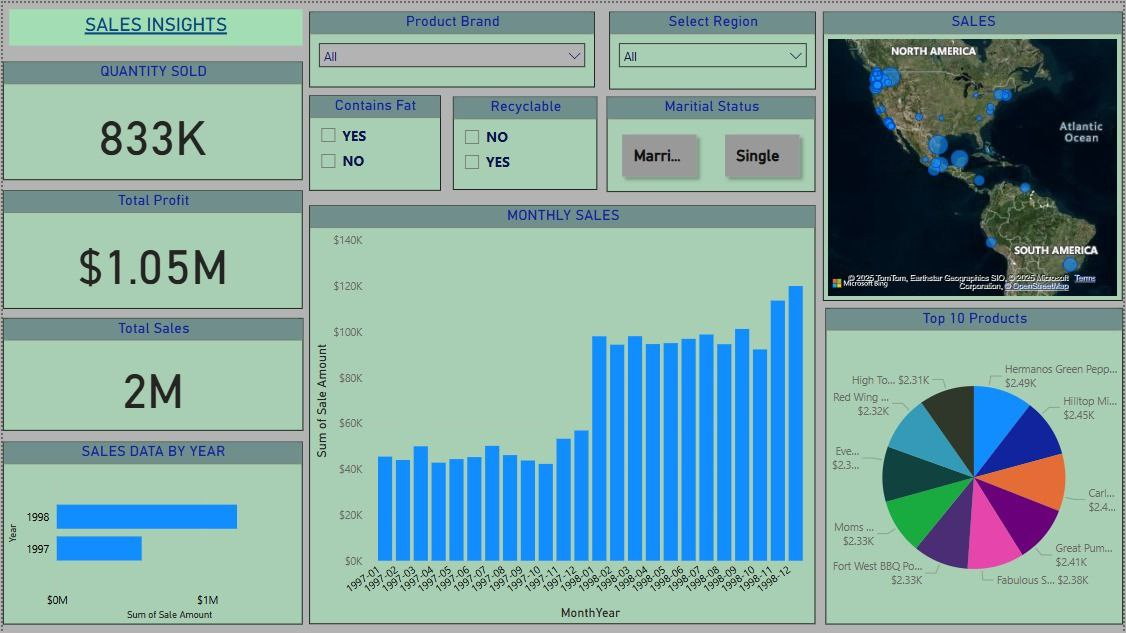

What the dashboard file says about the page in this screenshot:
{"tool":"powerbi","page":{"name":"Sales Analysis","canvas":[1280,720],"ordinal":0},"visuals":[{"type":"card","title":"Total Sales","fields":{"Values":["Transactions _1997.Total Sales"]},"box":[0,360,342.9,128.6],"z":0},{"type":"columnChart","title":"MONTHLY SALES","fields":{"Category":["Calendar.MonthYear"],"Y":["Sum(Transactions _1997.Sale Amount)"]},"box":[350,231.2,578.8,478.8],"z":1000},{"type":"clusteredBarChart","title":"SALES DATA BY YEAR","fields":{"Category":["Transactions _1997.Year"],"Y":["Sum(Transactions _1997.Sale Amount)"]},"box":[0,501.2,342.5,208.8],"z":2000},{"type":"slicer","title":"Select Region","fields":{"Values":["Regions.sales_region"]},"box":[692.5,10,236.2,88.8],"z":3000},{"type":"pieChart","title":"Top 10 Products","fields":{"Category":["products.product_name"],"Y":["Sum(Transactions _1997.Sale Amount)"]},"box":[940,348.8,340,361.2],"z":4000},{"type":"slicer","title":"Contains Fat","fields":{"Values":["products.low_fat"]},"box":[350,105,150,108.8],"z":5000},{"type":"slicer","title":"Recyclable","fields":{"Values":["products.recyclable"]},"box":[513.8,107.5,165,106.2],"z":6000},{"type":"slicer","title":"Product Brand","fields":{"Values":["products.product_brand"]},"box":[350,10,326.2,86.2],"z":7000},{"type":"advancedSlicerVisual","title":"Maritial Status","fields":{"Values":["Customers.marital_status"]},"box":[690,107.5,238.8,108.8],"z":8000},{"type":"card","title":"Total Profit","fields":{"Values":["Sum(Transactions _1997.Profit)"]},"box":[0,214.2,342.5,135],"z":9000},{"type":"textbox","box":[7.5,7.5,335,41.2],"z":10000},{"type":"map","title":"SALES","fields":{"Category":["Customers.customer_city"],"Size":["Sum(Transactions _1997.Sale Amount)"]},"box":[937.5,10,342.5,330],"z":11000},{"type":"card","title":"QUANTITY SOLD","fields":{"Values":["Transactions _1997.Total Quantity ordered"]},"box":[0,67.5,342.5,135],"z":12000}]}

Visuals, with their boxes in screenshot pixels (x1, y1, x2, y2), scaled from the page's 1280x720 canvas onto the 1126x633 screenshot:
"Total Sales" card: box(0, 316, 302, 430)
"MONTHLY SALES" columnChart: box(308, 203, 817, 624)
"SALES DATA BY YEAR" clusteredBarChart: box(0, 441, 301, 624)
"Select Region" slicer: box(609, 9, 817, 87)
"Top 10 Products" pieChart: box(827, 307, 1125, 624)
"Contains Fat" slicer: box(308, 92, 440, 188)
"Recyclable" slicer: box(452, 95, 597, 188)
"Product Brand" slicer: box(308, 9, 595, 85)
"Maritial Status" advancedSlicerVisual: box(607, 95, 817, 190)
"Total Profit" card: box(0, 188, 301, 307)
textbox: box(7, 7, 301, 43)
"SALES" map: box(825, 9, 1125, 299)
"QUANTITY SOLD" card: box(0, 59, 301, 178)
